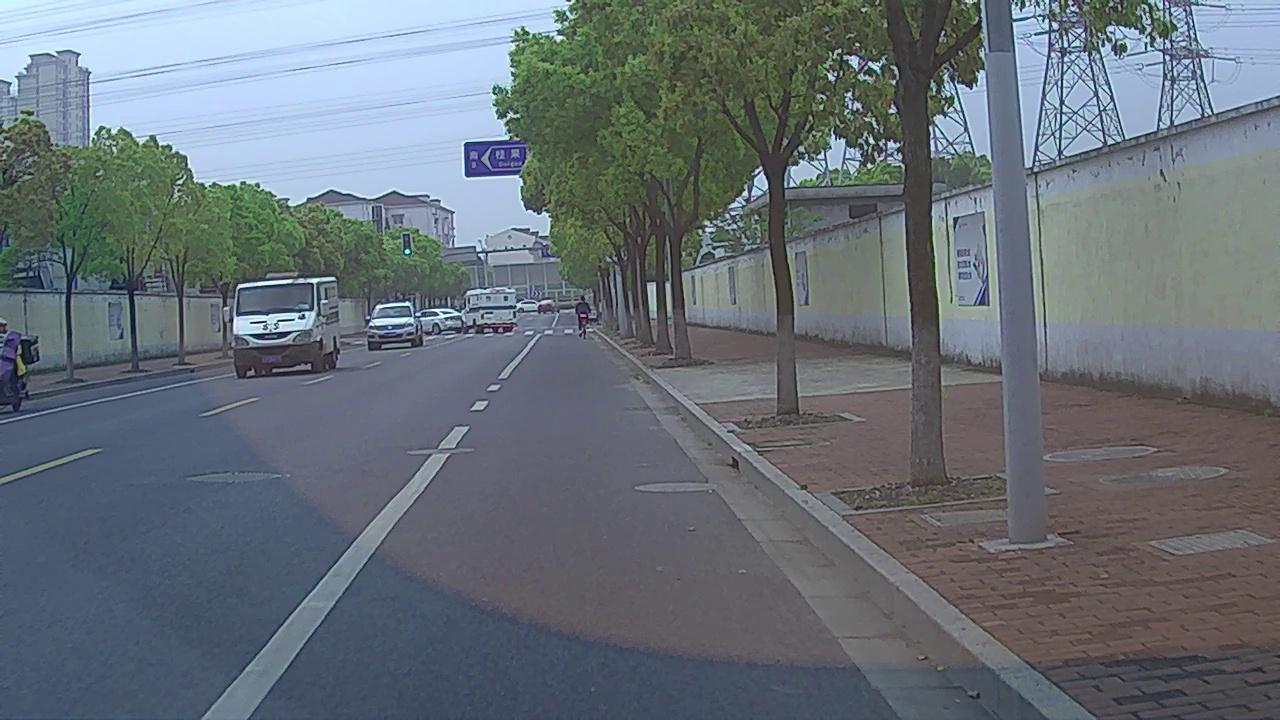traffic_light: (402, 232, 411, 256)
